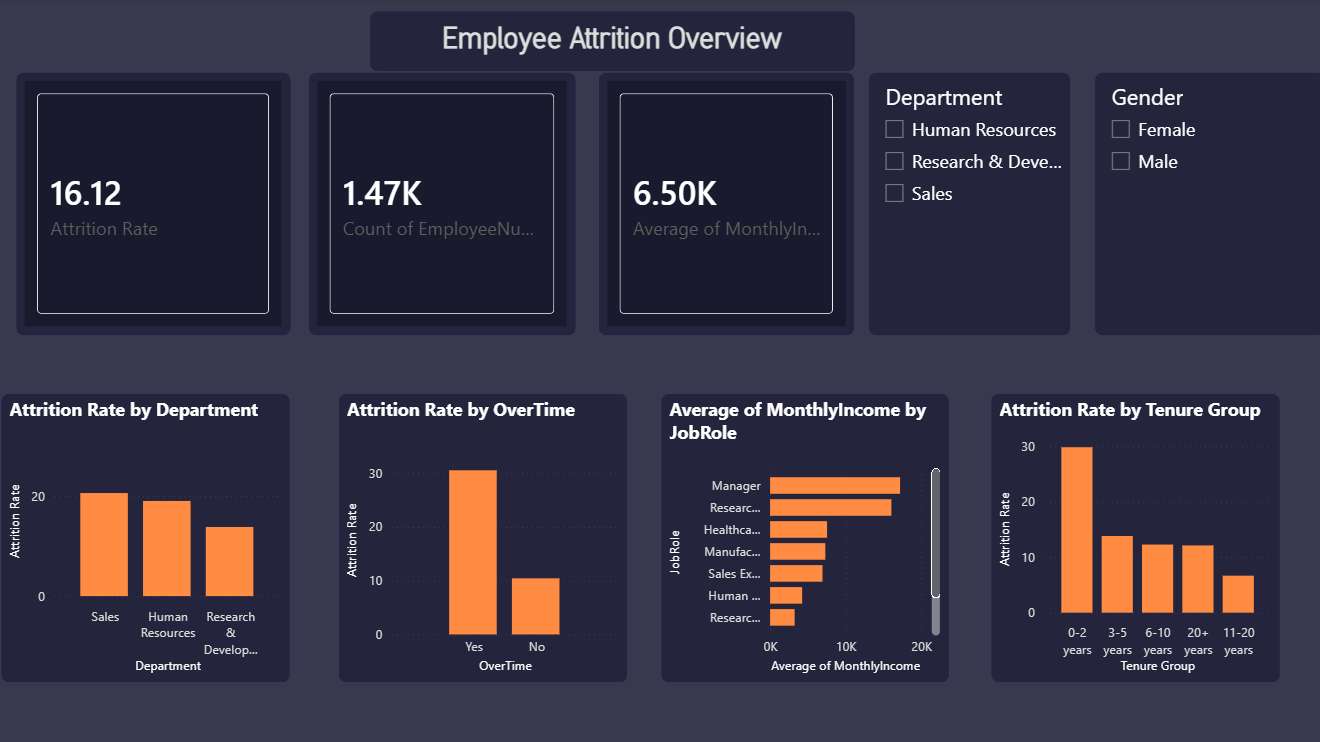

The dashboard page shown, as its layout file describes it:
{"tool":"powerbi","page":{"name":"Overview","canvas":[1280,720],"ordinal":0},"visuals":[{"type":"cardVisual","fields":{"Data":["WA_Fn-UseC_-HR-Employee-Attrition.Attrition Rate"]},"box":[16.5,71.4,266.2,255.2],"z":0},{"type":"cardVisual","fields":{"Data":["CountNonNull(WA_Fn-UseC_-HR-Employee-Attrition.EmployeeNumber)"]},"box":[299.1,71.4,259.3,255.2],"z":1000},{"type":"cardVisual","fields":{"Data":["Avg(WA_Fn-UseC_-HR-Employee-Attrition.MonthlyIncome)"]},"box":[579.1,71.4,248.4,255.2],"z":2000},{"type":"clusteredColumnChart","fields":{"Category":["WA_Fn-UseC_-HR-Employee-Attrition.Department"],"Y":["WA_Fn-UseC_-HR-Employee-Attrition.Attrition Rate"]},"box":[2.7,381.5,280,280],"z":3000},{"type":"clusteredColumnChart","fields":{"Category":["WA_Fn-UseC_-HR-Employee-Attrition.OverTime"],"Y":["WA_Fn-UseC_-HR-Employee-Attrition.Attrition Rate"]},"box":[328,381.5,280,280],"z":4000},{"type":"clusteredBarChart","fields":{"Category":["WA_Fn-UseC_-HR-Employee-Attrition.JobRole"],"Y":["Avg(WA_Fn-UseC_-HR-Employee-Attrition.MonthlyIncome)"]},"box":[639.5,381.5,279,280],"z":5000},{"type":"clusteredColumnChart","fields":{"Category":["WA_Fn-UseC_-HR-Employee-Attrition.Tenure Group"],"Y":["WA_Fn-UseC_-HR-Employee-Attrition.Attrition Rate"]},"box":[957.8,381.5,280,280],"z":6000},{"type":"slicer","fields":{"Values":["WA_Fn-UseC_-HR-Employee-Attrition.Department"]},"box":[839.8,71.4,196.2,255.2],"z":7000},{"type":"slicer","fields":{"Values":["WA_Fn-UseC_-HR-Employee-Attrition.Gender"]},"box":[1058,71.4,222.3,255.2],"z":8000},{"type":"textbox","box":[358.1,12.3,469.3,59],"z":8001}]}

Visuals, with their boxes in screenshot pixels (x1, y1, x2, y2), scaled from the page's 1280x720 canvas onto the 1320x742 screenshot:
cardVisual - WA_Fn-UseC_-HR-Employee-Attrition.Attrition Rate: (17, 74, 292, 337)
cardVisual - CountNonNull(WA_Fn-UseC_-HR-Employee-Attrition.EmployeeNumber): (308, 74, 576, 337)
cardVisual - Avg(WA_Fn-UseC_-HR-Employee-Attrition.MonthlyIncome): (597, 74, 853, 337)
clusteredColumnChart - WA_Fn-UseC_-HR-Employee-Attrition.Department x WA_Fn-UseC_-HR-Employee-Attrition.Attrition Rate: (3, 393, 292, 682)
clusteredColumnChart - WA_Fn-UseC_-HR-Employee-Attrition.OverTime x WA_Fn-UseC_-HR-Employee-Attrition.Attrition Rate: (338, 393, 627, 682)
clusteredBarChart - WA_Fn-UseC_-HR-Employee-Attrition.JobRole x Avg(WA_Fn-UseC_-HR-Employee-Attrition.MonthlyIncome): (659, 393, 947, 682)
clusteredColumnChart - WA_Fn-UseC_-HR-Employee-Attrition.Tenure Group x WA_Fn-UseC_-HR-Employee-Attrition.Attrition Rate: (988, 393, 1276, 682)
slicer - WA_Fn-UseC_-HR-Employee-Attrition.Department: (866, 74, 1068, 337)
slicer - WA_Fn-UseC_-HR-Employee-Attrition.Gender: (1091, 74, 1319, 337)
textbox: (369, 13, 853, 73)
